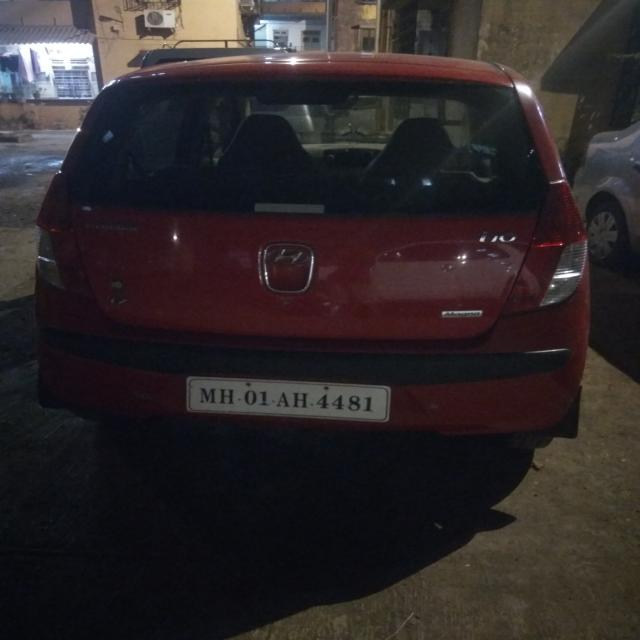Number-Plate: (198, 380, 388, 418)
